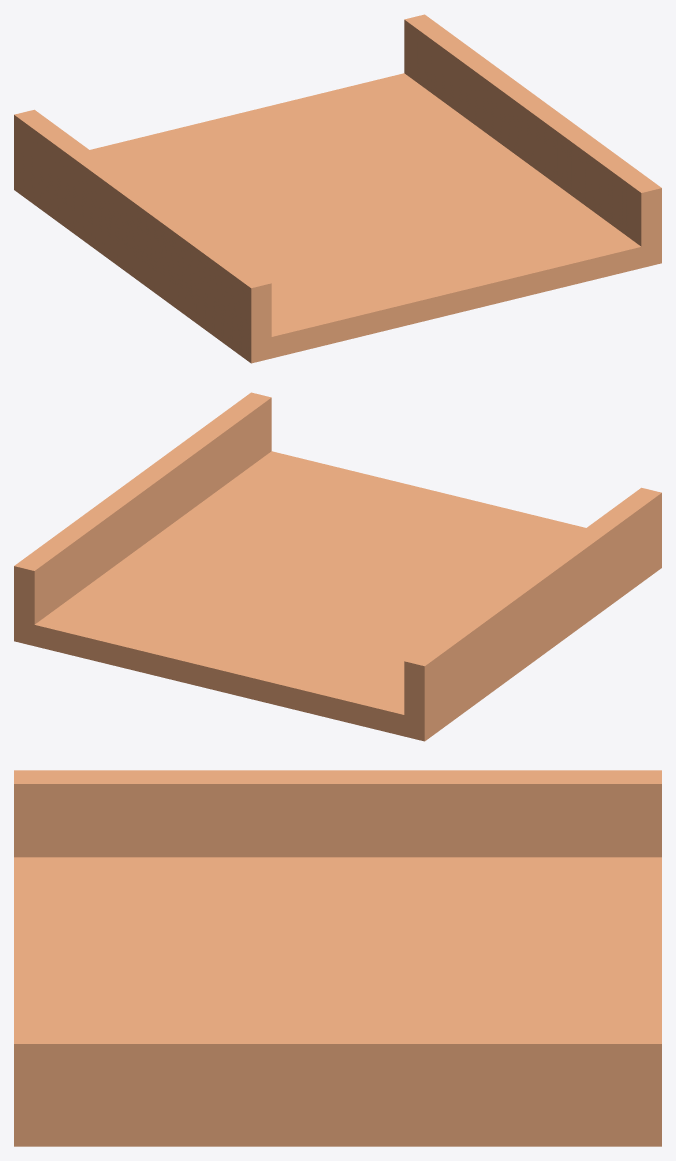
The model's file is BeigeRoof_2Edges.glb.
3 renders of one model, top to bottom at view 1: azimuth 30°, elevation 25°; view 2: azimuth 150°, elevation 25°; view 3: azimuth 270°, elevation 25°, orthographic. The views are drawn at different scales.
Parts seen in each view (by area): view 1: roof_flat_2Edges_beige; view 2: roof_flat_2Edges_beige; view 3: roof_flat_2Edges_beige.
Boxes of the visible parts, box(x1,y1,x2,y2) form: roof_flat_2Edges_beige: box(14, 14, 661, 363); roof_flat_2Edges_beige: box(14, 392, 661, 741); roof_flat_2Edges_beige: box(14, 770, 661, 1146).
Bounding box in the file's own units: 4 × 0.7 × 4.
1 material, 1 textured.
